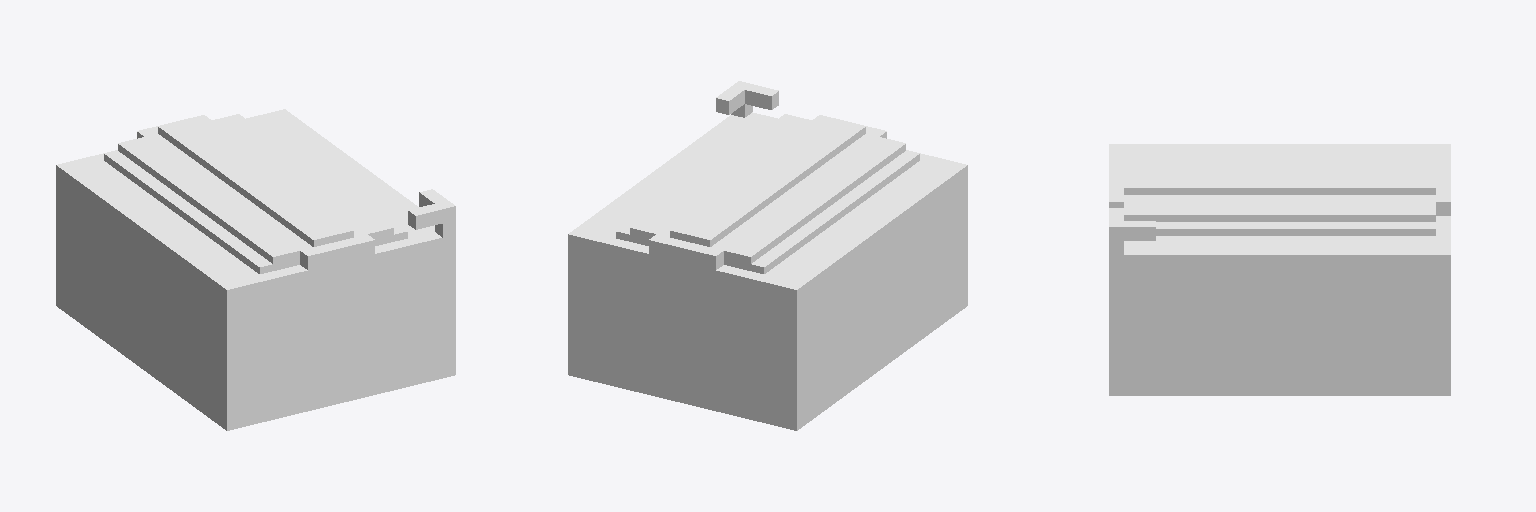
The model's file is 2_Small_A.obj.
3 views of the same model, side by side, from view 1: azimuth 30°, elevation 25°; view 2: azimuth 150°, elevation 25°; view 3: azimuth 270°, elevation 25° (orthographic).
Visible parts, largest first — view 1: Flat_World__10_-60_-2_to_26_-49_19; view 2: Flat_World__10_-60_-2_to_26_-49_19; view 3: Flat_World__10_-60_-2_to_26_-49_19.
Part boxes in pixels (x1,y1,x2,y2): Flat_World__10_-60_-2_to_26_-49_19: (56,109,455,430); Flat_World__10_-60_-2_to_26_-49_19: (568,81,967,430); Flat_World__10_-60_-2_to_26_-49_19: (1109,144,1450,395).
Size of the model in its own units: 17 by 12 by 22.